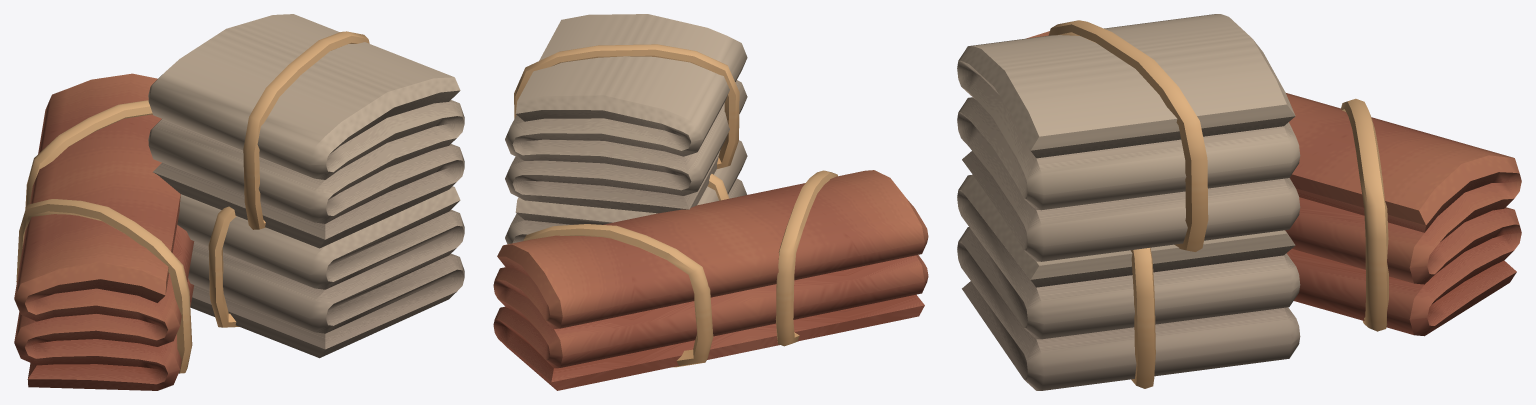
The model's file is Textiles_Stack_Small.gltf.
The picture shows the model from 3 angles, left to right: view 1: azimuth 30°, elevation 25°; view 2: azimuth 150°, elevation 25°; view 3: azimuth 270°, elevation 25°; orthographic projection. The views are drawn at different scales.
Visible parts, largest first — view 1: Textiles_Stack_Small; view 2: Textiles_Stack_Small; view 3: Textiles_Stack_Small.
Part boxes in pixels (left/top/right/bottom): Textiles_Stack_Small: left=14, top=14, right=464, bottom=390; Textiles_Stack_Small: left=493, top=14, right=928, bottom=390; Textiles_Stack_Small: left=957, top=14, right=1521, bottom=390.
Size of the model in its own units: 1.66 by 0.9318 by 1.59.
1 material, 1 textured.
